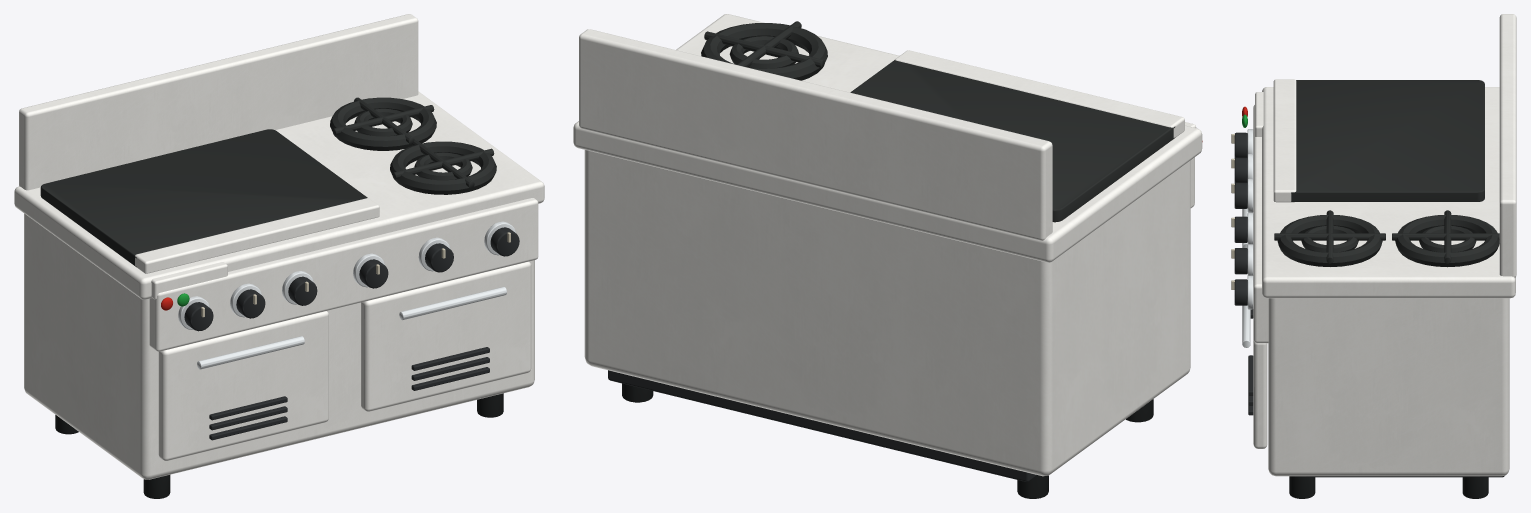
The model's file is diner_griddle_range.glb.
3 views of the same model, side by side, from view 1: azimuth 30°, elevation 25°; view 2: azimuth 150°, elevation 25°; view 3: azimuth 270°, elevation 25° (orthographic). The views are drawn at different scales.
Visible parts, largest first — view 1: diner_griddle_range_ss_stainless_pbr, diner_griddle_range_ss_seasoned_black_steel, diner_griddle_range_ss_control_black, diner_griddle_range_ss_polished_chrome, diner_griddle_range_ss_black_rubber; view 2: diner_griddle_range_ss_stainless_pbr, diner_griddle_range_ss_seasoned_black_steel, diner_griddle_range_ss_control_black, diner_griddle_range_ss_black_rubber; view 3: diner_griddle_range_ss_stainless_pbr, diner_griddle_range_ss_seasoned_black_steel, diner_griddle_range_ss_control_black, diner_griddle_range_ss_polished_chrome, diner_griddle_range_ss_black_rubber.
Part boxes in pixels (box(x1,y1,x2,y2)): diner_griddle_range_ss_stainless_pbr: box(14, 14, 544, 479); diner_griddle_range_ss_seasoned_black_steel: box(40, 97, 496, 267); diner_griddle_range_ss_control_black: box(184, 227, 519, 440); diner_griddle_range_ss_polished_chrome: box(178, 221, 515, 369); diner_griddle_range_ss_black_rubber: box(55, 393, 503, 498); diner_griddle_range_ss_stainless_pbr: box(573, 14, 1202, 476); diner_griddle_range_ss_seasoned_black_steel: box(701, 21, 1175, 222); diner_griddle_range_ss_control_black: box(608, 370, 1037, 481); diner_griddle_range_ss_black_rubber: box(622, 383, 1153, 498); diner_griddle_range_ss_stainless_pbr: box(1253, 14, 1516, 476); diner_griddle_range_ss_seasoned_black_steel: box(1274, 80, 1499, 267); diner_griddle_range_ss_control_black: box(1234, 132, 1504, 477); diner_griddle_range_ss_polished_chrome: box(1242, 129, 1253, 347); diner_griddle_range_ss_black_rubber: box(1289, 476, 1488, 498).
Bounding box in the file's own units: 1.48 × 1.09 × 0.9215.
8 materials, 1 textured.
